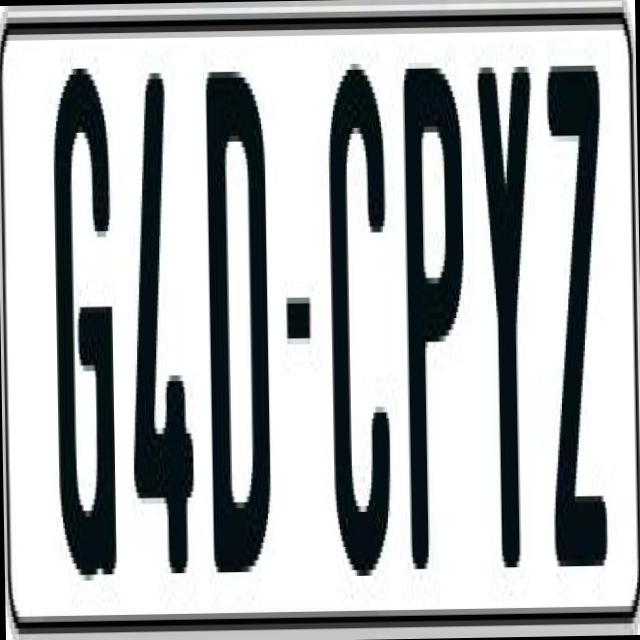4: (122, 61, 192, 580)
C: (326, 51, 402, 593)
D: (204, 70, 278, 608)
G: (46, 68, 116, 592)
P: (398, 61, 466, 592)
Y: (474, 54, 539, 579)
Z: (542, 48, 612, 554)
